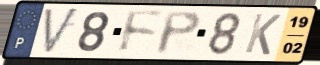8: (206, 11, 242, 57), (77, 10, 111, 53)
F: (117, 9, 166, 56)
K: (242, 12, 283, 57)
P: (155, 10, 204, 57)
V: (42, 6, 82, 57)
